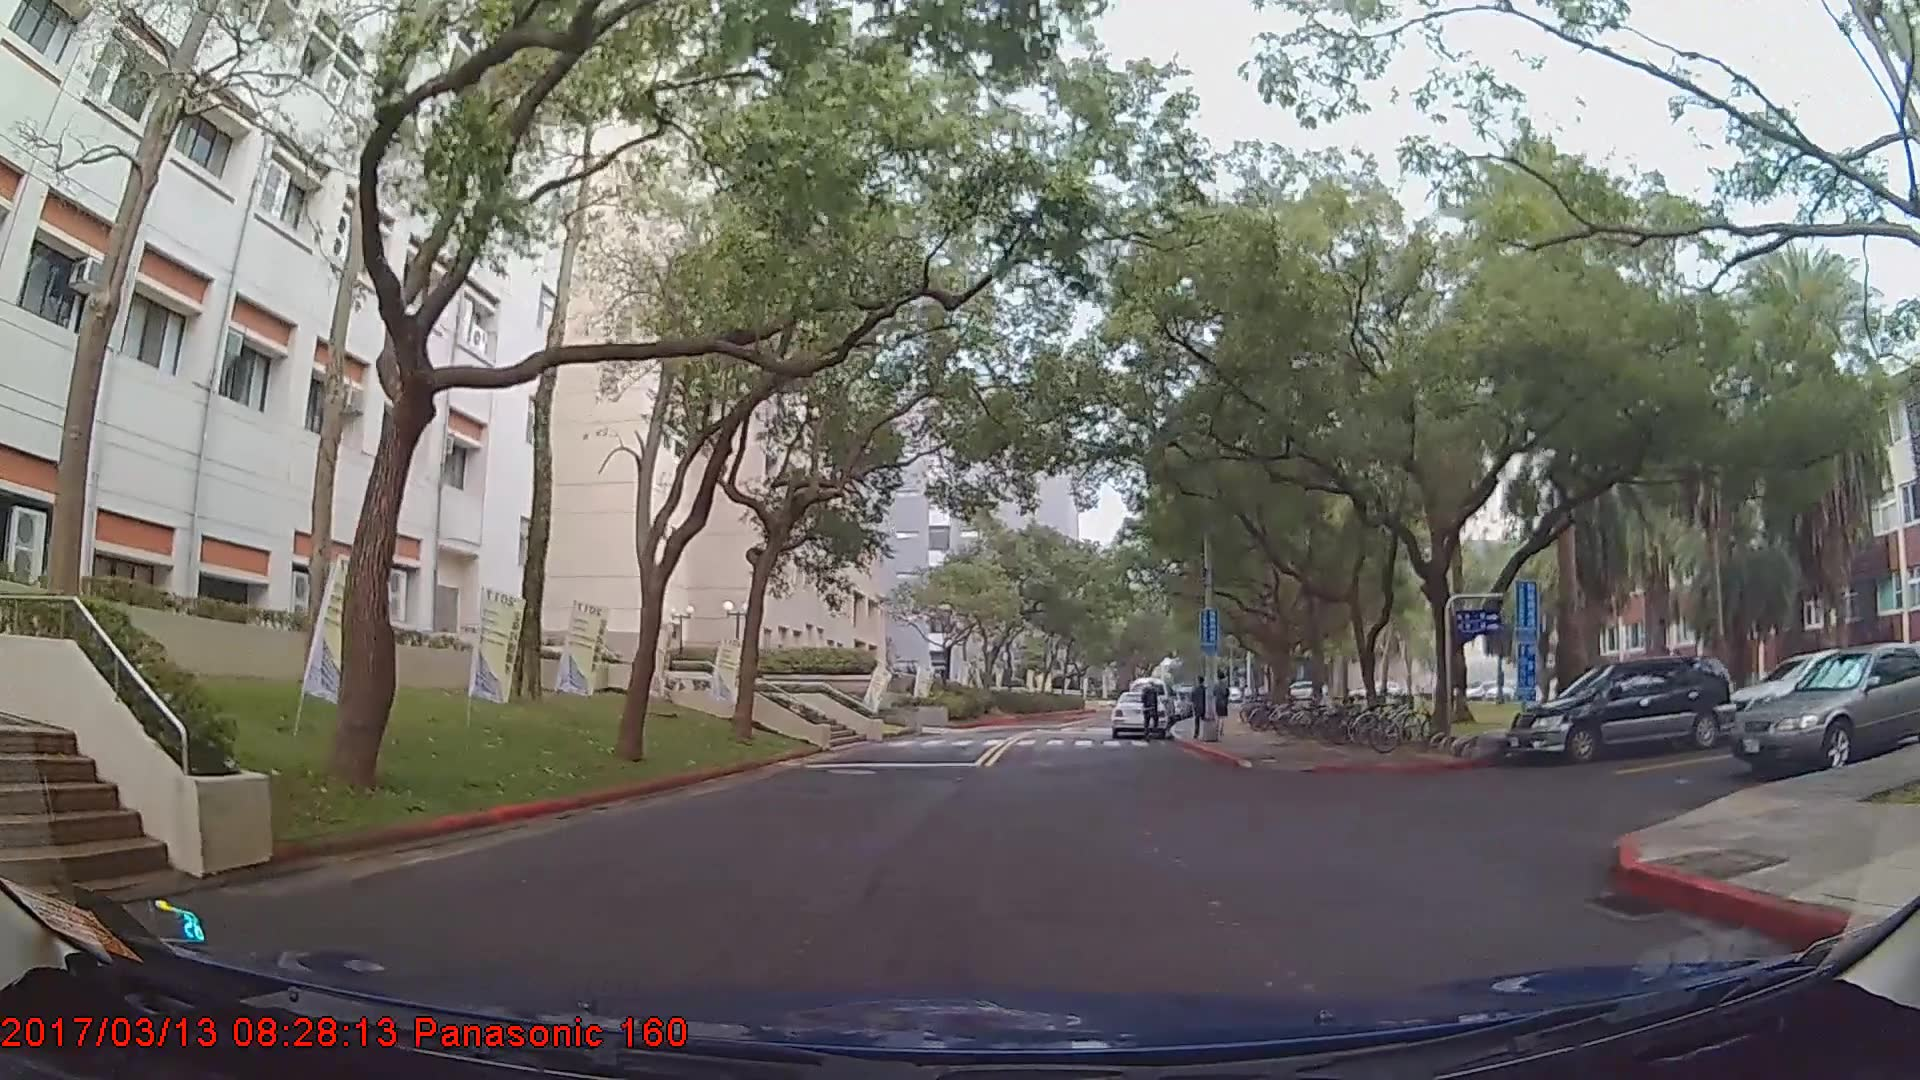pedestrian: (1192, 676, 1214, 737), (1142, 680, 1162, 744)
vehicle: (1728, 641, 1920, 778), (1506, 652, 1732, 763), (1108, 688, 1169, 736)
